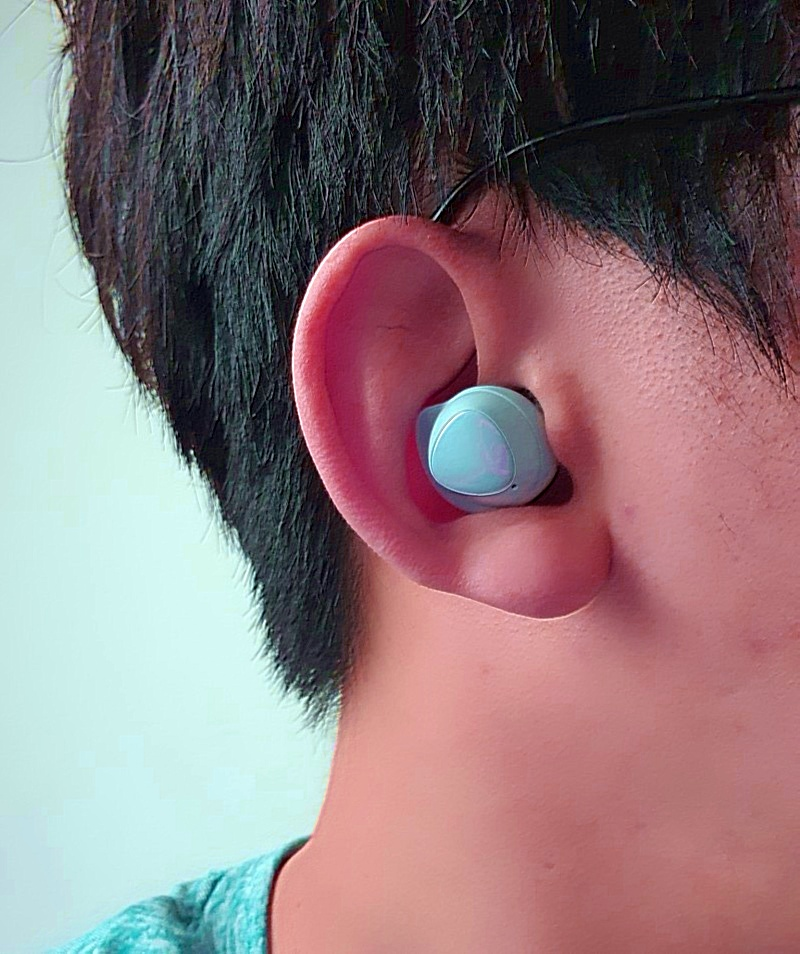earphone: (293, 217, 622, 621)
